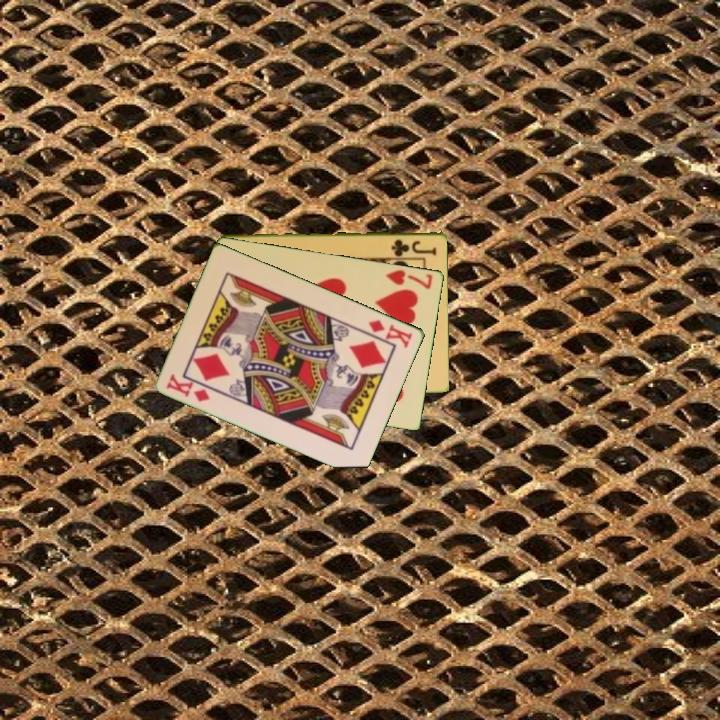7h: (383, 266, 436, 291)
Jc: (388, 236, 440, 258)
Kd: (365, 316, 416, 351), (163, 370, 213, 404)
